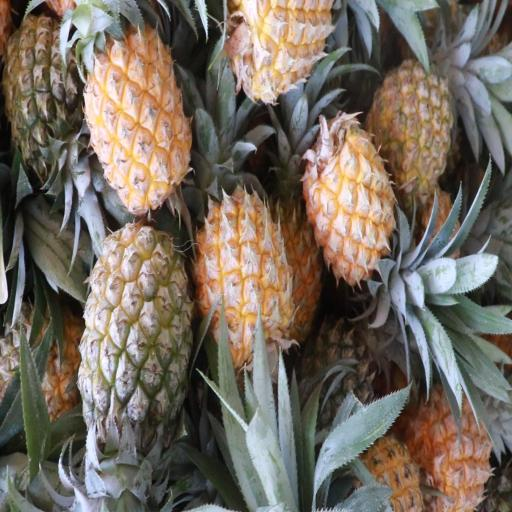------------------------------: (82, 228, 188, 448), (3, 303, 83, 442), (371, 65, 453, 200)
Pineapple - v8 v1: (88, 17, 192, 202), (198, 194, 291, 370), (308, 118, 393, 288), (414, 378, 494, 511), (232, 2, 330, 102)
